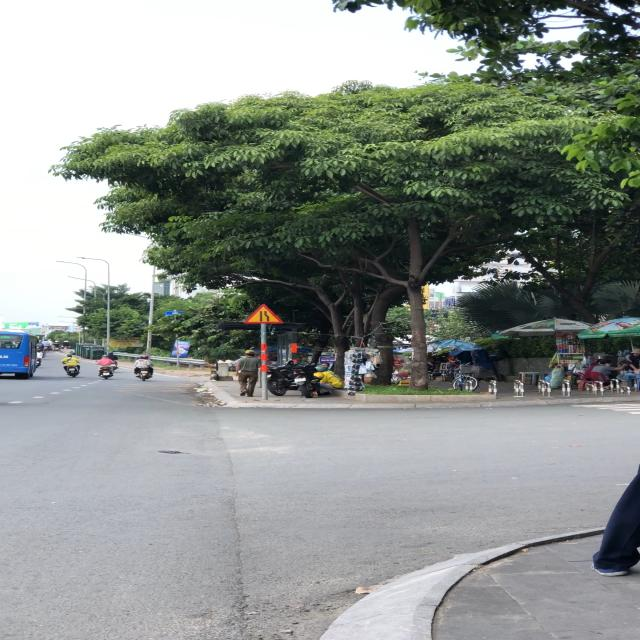Bien bao duong bi thu hep: (243, 303, 285, 324)
